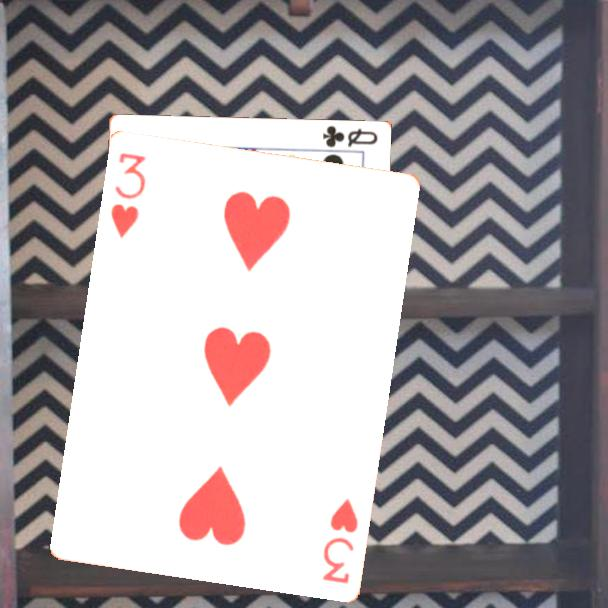c12: (319, 123, 380, 151)
h03: (319, 494, 361, 586), (107, 148, 148, 241)
